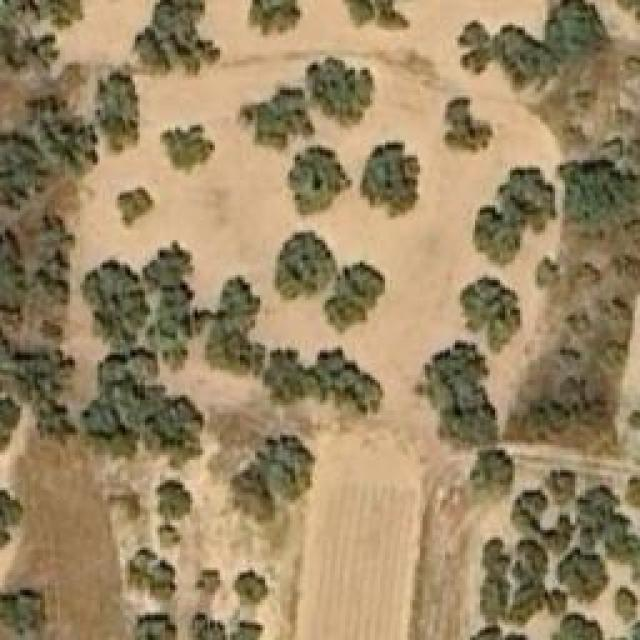Tree: (415, 343, 498, 446), (135, 0, 220, 78), (77, 262, 145, 340), (458, 273, 523, 353), (363, 135, 423, 215), (288, 145, 353, 215), (308, 57, 373, 125), (325, 260, 385, 333), (275, 230, 338, 298), (495, 168, 555, 238), (318, 347, 378, 415), (557, 155, 615, 225), (240, 90, 310, 148), (547, 0, 605, 68), (257, 438, 315, 503), (92, 83, 140, 153), (473, 205, 526, 268), (443, 98, 493, 161), (160, 123, 218, 176), (498, 27, 551, 85), (128, 548, 178, 601), (0, 137, 42, 200), (268, 345, 313, 403), (335, 0, 420, 28), (558, 555, 608, 600), (248, 0, 303, 38), (468, 450, 511, 498), (0, 590, 45, 635), (235, 478, 270, 523), (117, 187, 155, 225), (43, 0, 86, 28), (550, 615, 598, 640), (158, 483, 188, 523), (235, 568, 268, 603), (545, 468, 578, 503), (133, 613, 173, 638), (535, 258, 563, 291), (613, 590, 638, 618), (195, 570, 220, 595)
